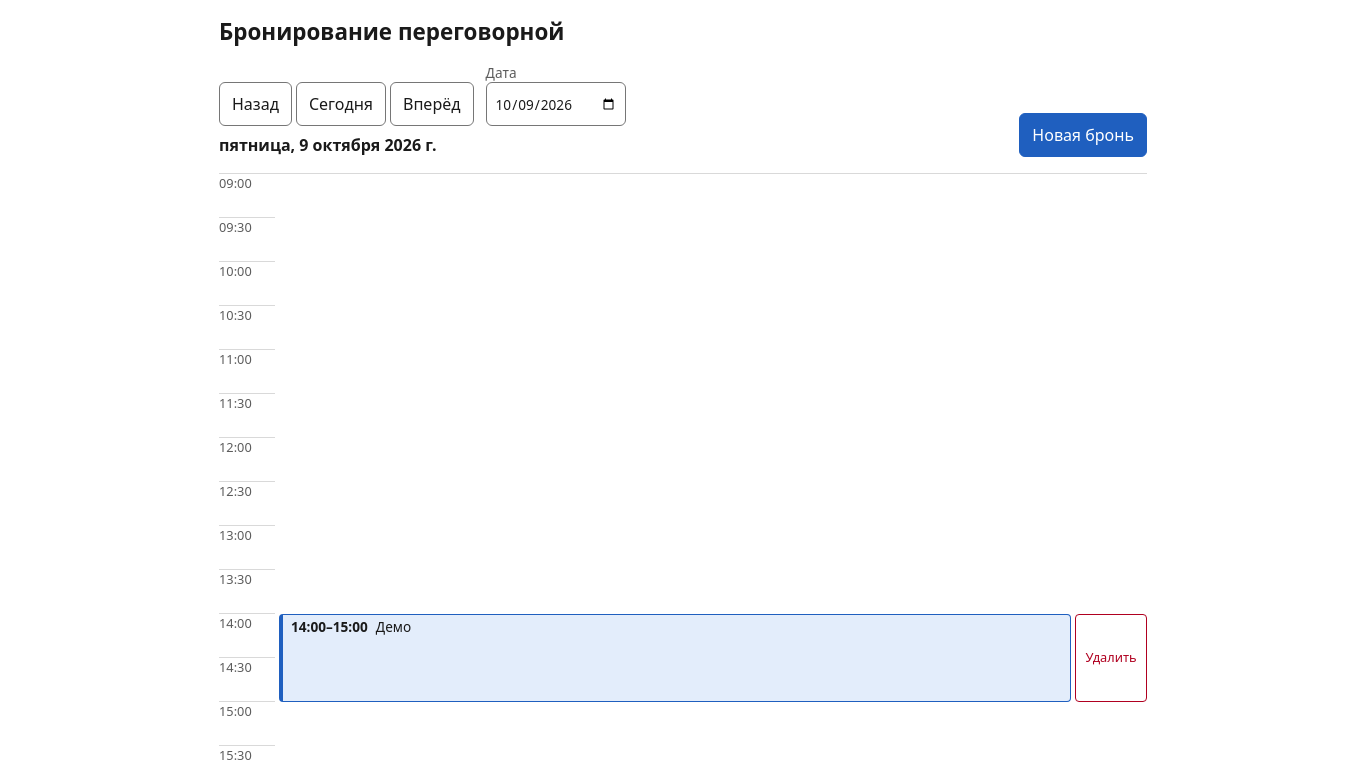
Test case: A2: axe — диалог удаления › A2, F6, U3: ошибка удаления (500) — нарушений axe 0, ровно один role=alert
Click the button with aria-label "Удалить бронь 14:00–15:00" at (1111, 658), box [1075, 614, 1147, 702]
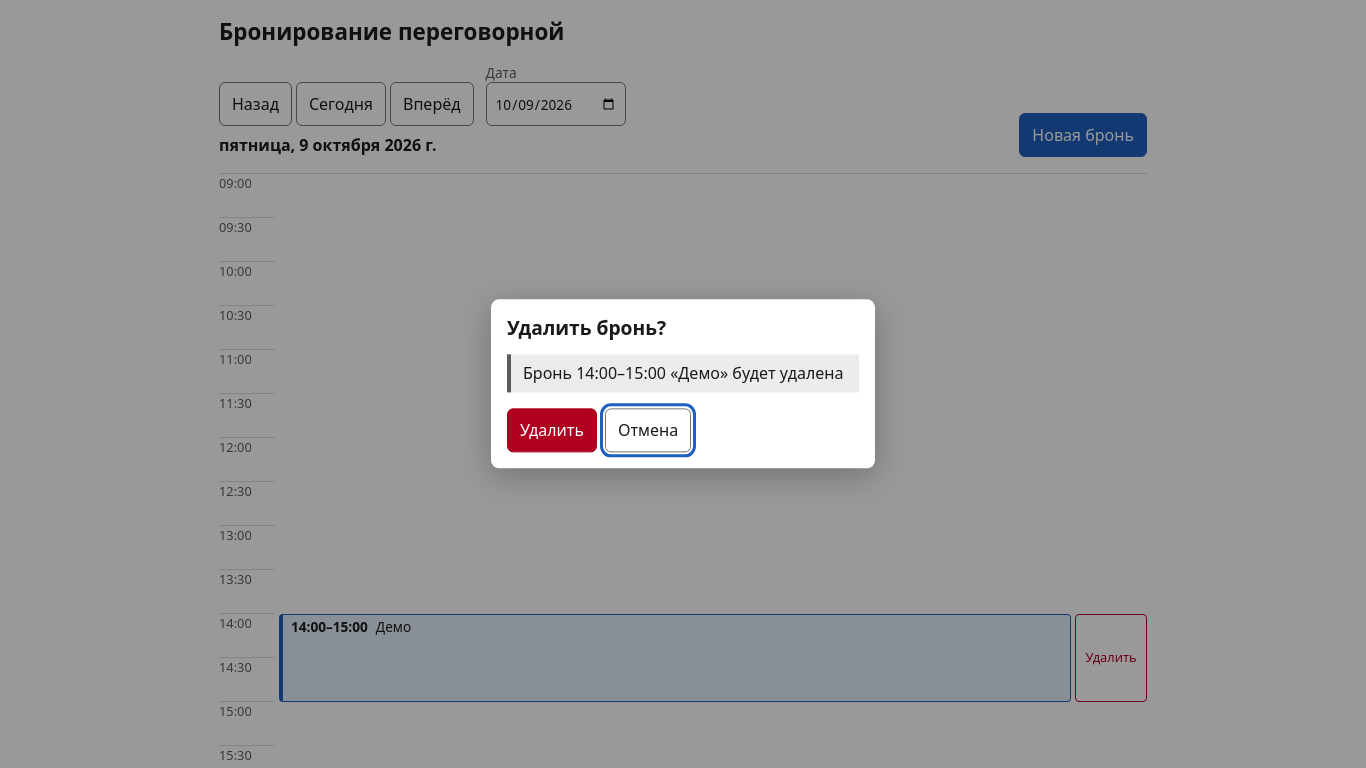
Click the button "Удалить" at (552, 431), box [507, 409, 597, 453]
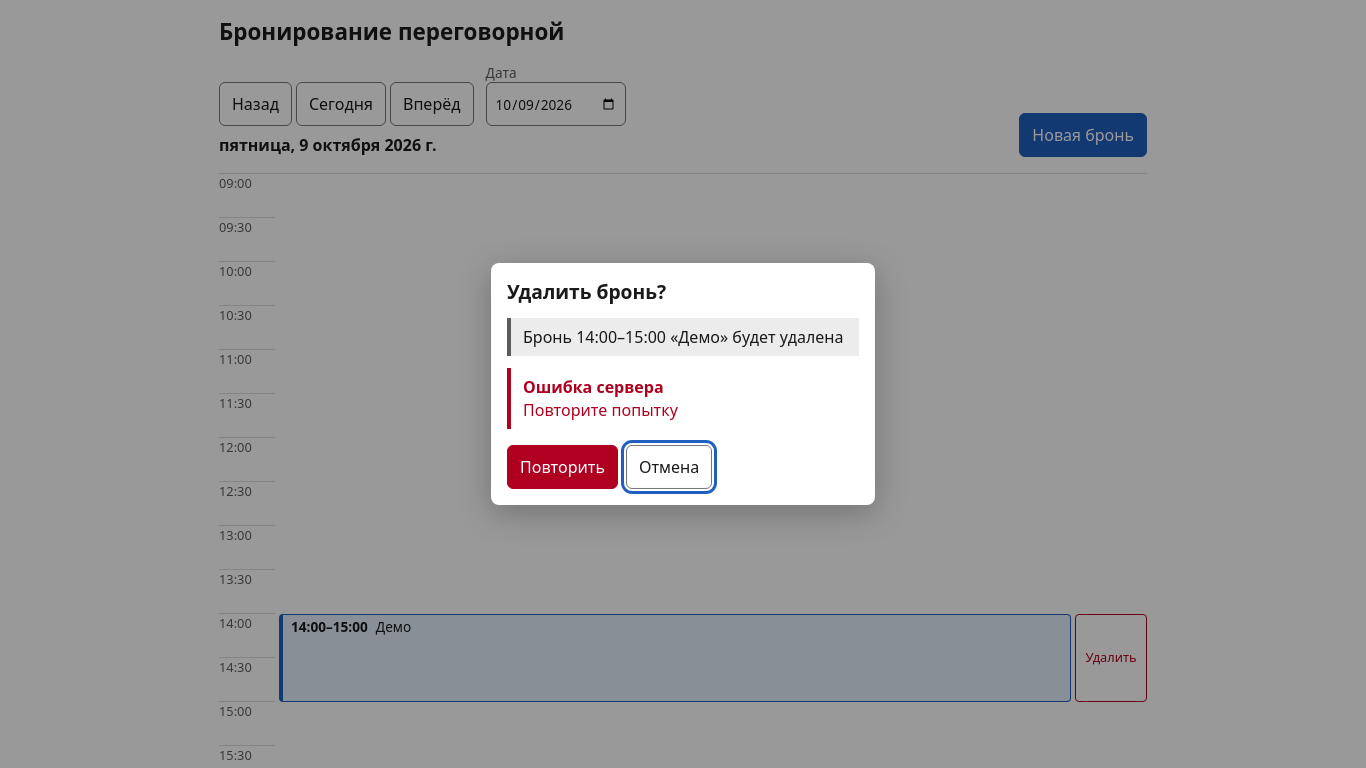
Now the message "Ошибка сервера Повторите попытку" is shown, box [507, 368, 859, 429]
